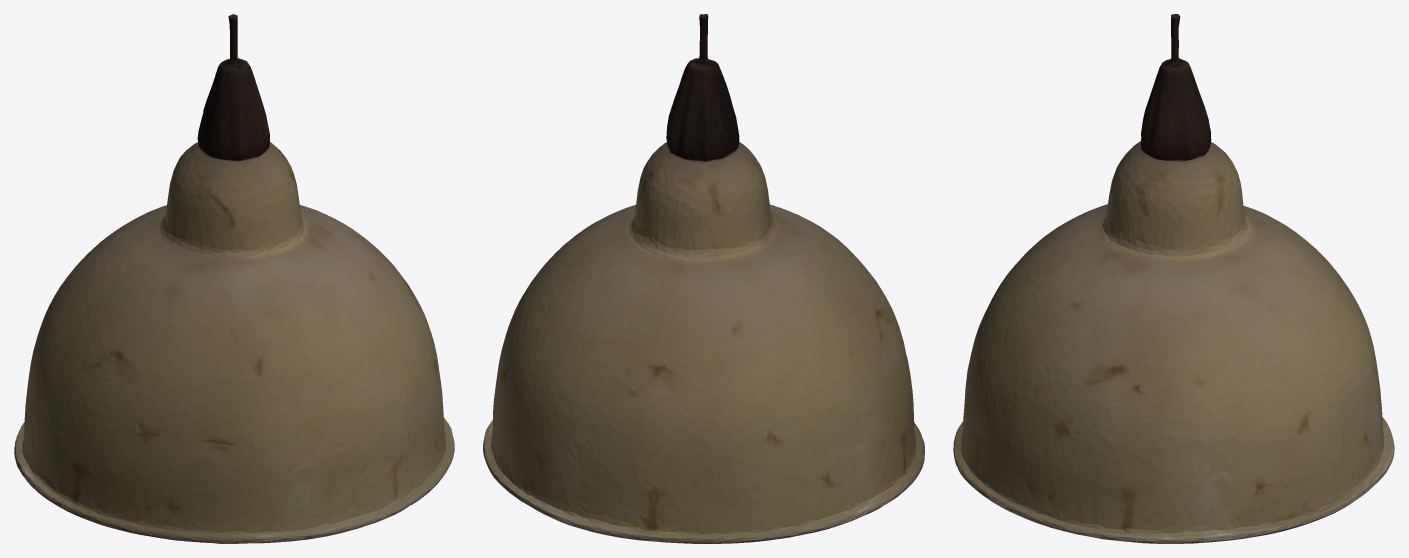
File: ast_7d1a1127850a.glb
3 views of the same model, side by side, from view 1: azimuth 30°, elevation 25°; view 2: azimuth 150°, elevation 25°; view 3: azimuth 270°, elevation 25° (orthographic).
Visible parts, largest first — view 1: geometry_0; view 2: geometry_0; view 3: geometry_0.
Part boxes in pixels (x1,y1,x2,y2): geometry_0: (14,14,454,543); geometry_0: (483,14,924,543); geometry_0: (953,14,1394,543).
Bounding box in the file's own units: 0.6765 × 0.7399 × 0.6756.
1 material, 1 textured.
